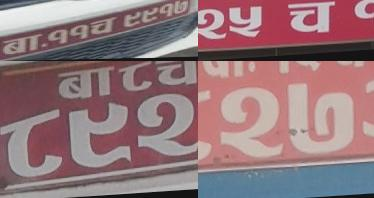1: (353, 0, 374, 35), (257, 61, 292, 81), (47, 29, 70, 46), (69, 25, 89, 40), (158, 4, 174, 18)
2: (216, 85, 286, 166), (132, 91, 198, 165), (198, 5, 228, 45)
3: (358, 75, 374, 157)
5: (227, 4, 264, 44)
6: (291, 61, 324, 78)
7: (285, 79, 358, 163), (174, 1, 192, 14)
8: (0, 106, 66, 182), (198, 88, 216, 171), (117, 62, 154, 95)
9: (64, 101, 135, 173), (120, 12, 142, 27), (142, 8, 158, 23)
ba: (52, 66, 116, 105), (198, 61, 248, 86), (2, 34, 41, 55)
cha: (285, 0, 337, 40), (153, 61, 198, 91), (324, 61, 372, 76), (88, 17, 115, 35)
